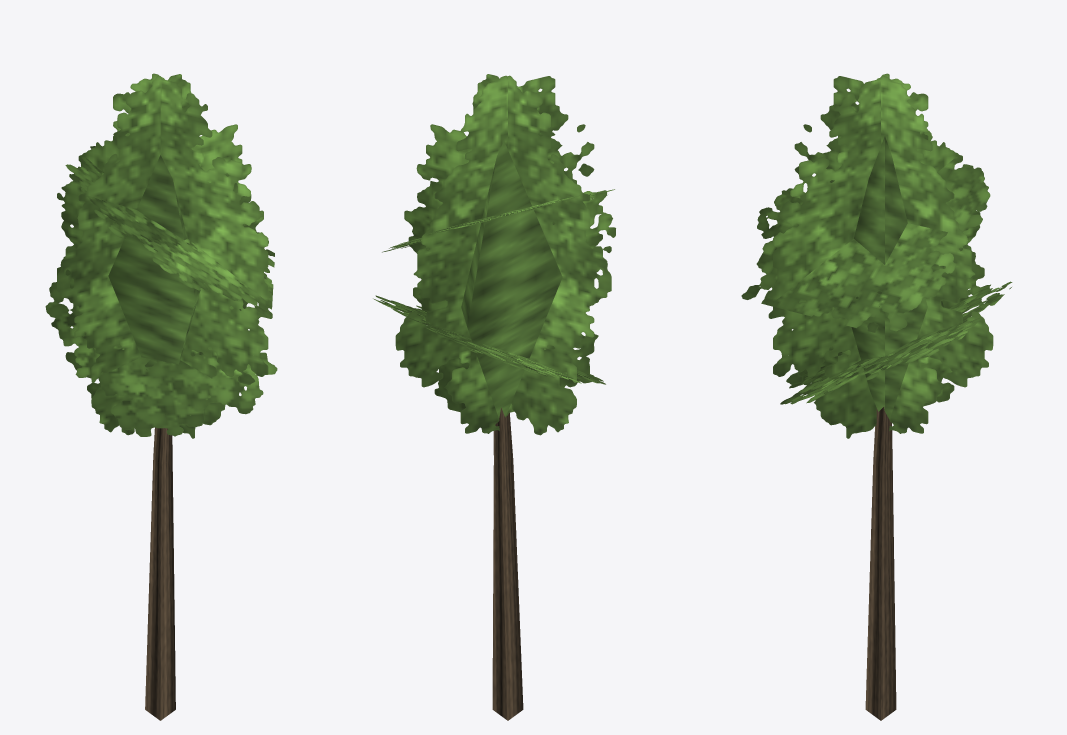
The model's file is tree-broadleaf-1.glb.
The picture shows the model from 3 angles, left to right: view 1: azimuth 30°, elevation 25°; view 2: azimuth 150°, elevation 25°; view 3: azimuth 270°, elevation 25°; orthographic projection.
Visible parts, largest first — view 1: tree-broadleaf-1; view 2: tree-broadleaf-1; view 3: tree-broadleaf-1.
Boxes of the visible parts, x1,y1,x2,y2 form: tree-broadleaf-1: (45, 73, 277, 720); tree-broadleaf-1: (373, 74, 615, 720); tree-broadleaf-1: (741, 73, 1012, 720).
Size of the model in its own units: 0.5041 by 1.08 by 0.5201.
1 material, 1 textured.
